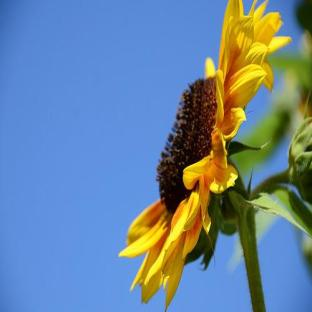sunflower: (118, 0, 312, 312)
